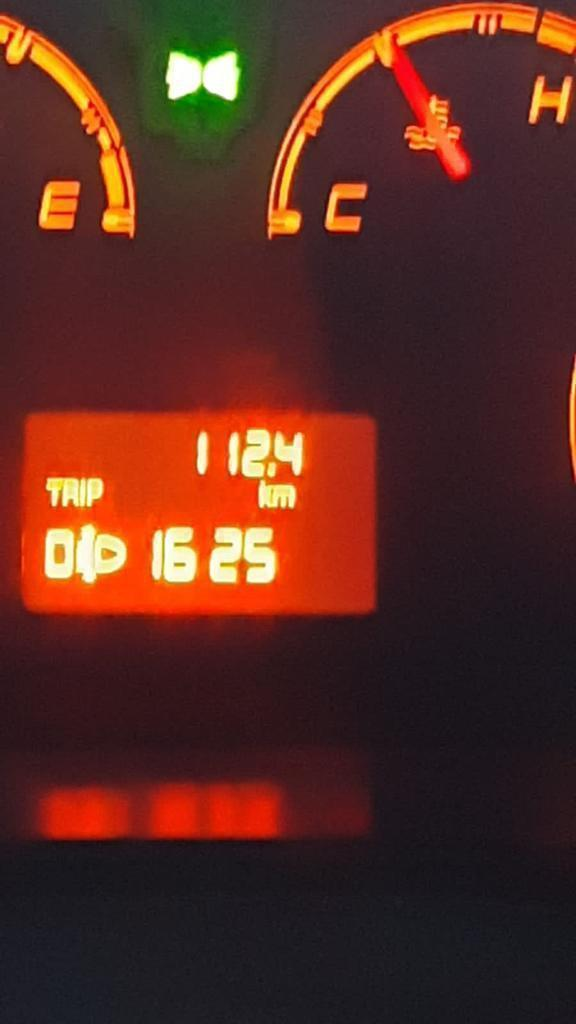,: (267, 459, 277, 480)
0: (42, 526, 75, 579)
1: (148, 525, 163, 580), (195, 426, 210, 477), (225, 426, 239, 477)
2: (209, 520, 241, 584), (243, 424, 270, 478)
4: (274, 428, 306, 477)
5: (244, 525, 279, 584)
6: (165, 522, 198, 584)
X: (272, 483, 296, 510), (44, 475, 61, 507), (87, 476, 103, 508), (257, 480, 272, 512), (62, 477, 77, 508), (79, 476, 86, 507)
odometer: (18, 405, 385, 620)
